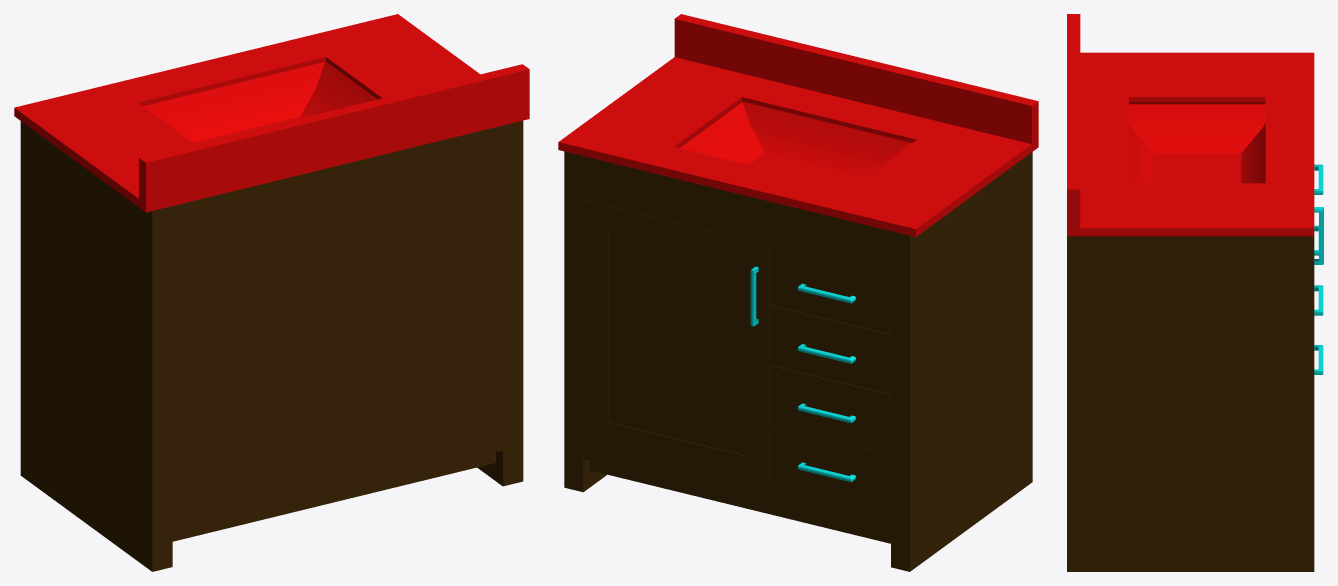
File: BanoWEastCourt_low.fbx
3 renders of one model, left to right at view 1: azimuth 30°, elevation 25°; view 2: azimuth 150°, elevation 25°; view 3: azimuth 270°, elevation 25°, orthographic. The views are drawn at different scales.
Visible parts, largest first — view 1: Base00; view 2: Base00, Puerta00, Cajon03, Cajon02, Cajon04, Cajon01; view 3: Base00, Puerta00.
Part boxes in pixels (x1=…): Base00: x1=14, y1=14, x2=529, y2=571; Base00: x1=558, y1=14, x2=1038, y2=571; Puerta00: x1=583, y1=200, x2=770, y2=484; Cajon03: x1=770, y1=365, x2=890, y2=454; Cajon02: x1=770, y1=305, x2=890, y2=394; Cajon04: x1=770, y1=425, x2=890, y2=513; Cajon01: x1=770, y1=245, x2=890, y2=334; Base00: x1=1067, y1=14, x2=1314, y2=571; Puerta00: x1=1314, y1=207, x2=1323, y2=264.
Size of the model in its own units: 93.98 by 96.1 by 58.03.
